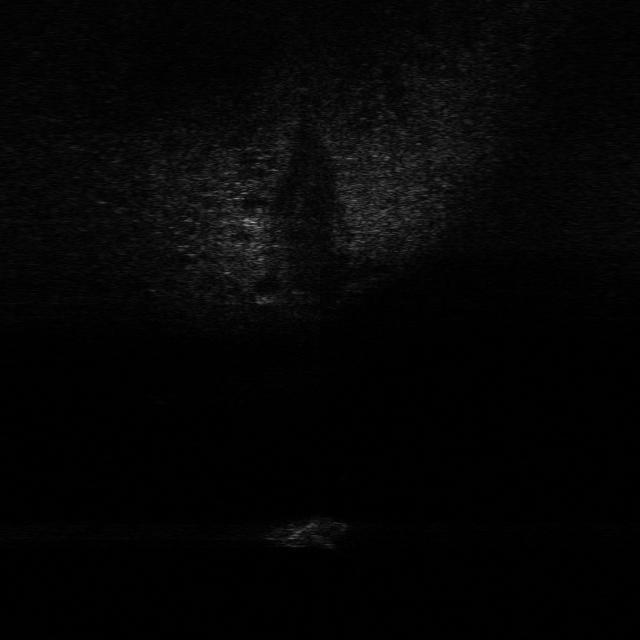circle cage: (268, 510, 351, 553)
